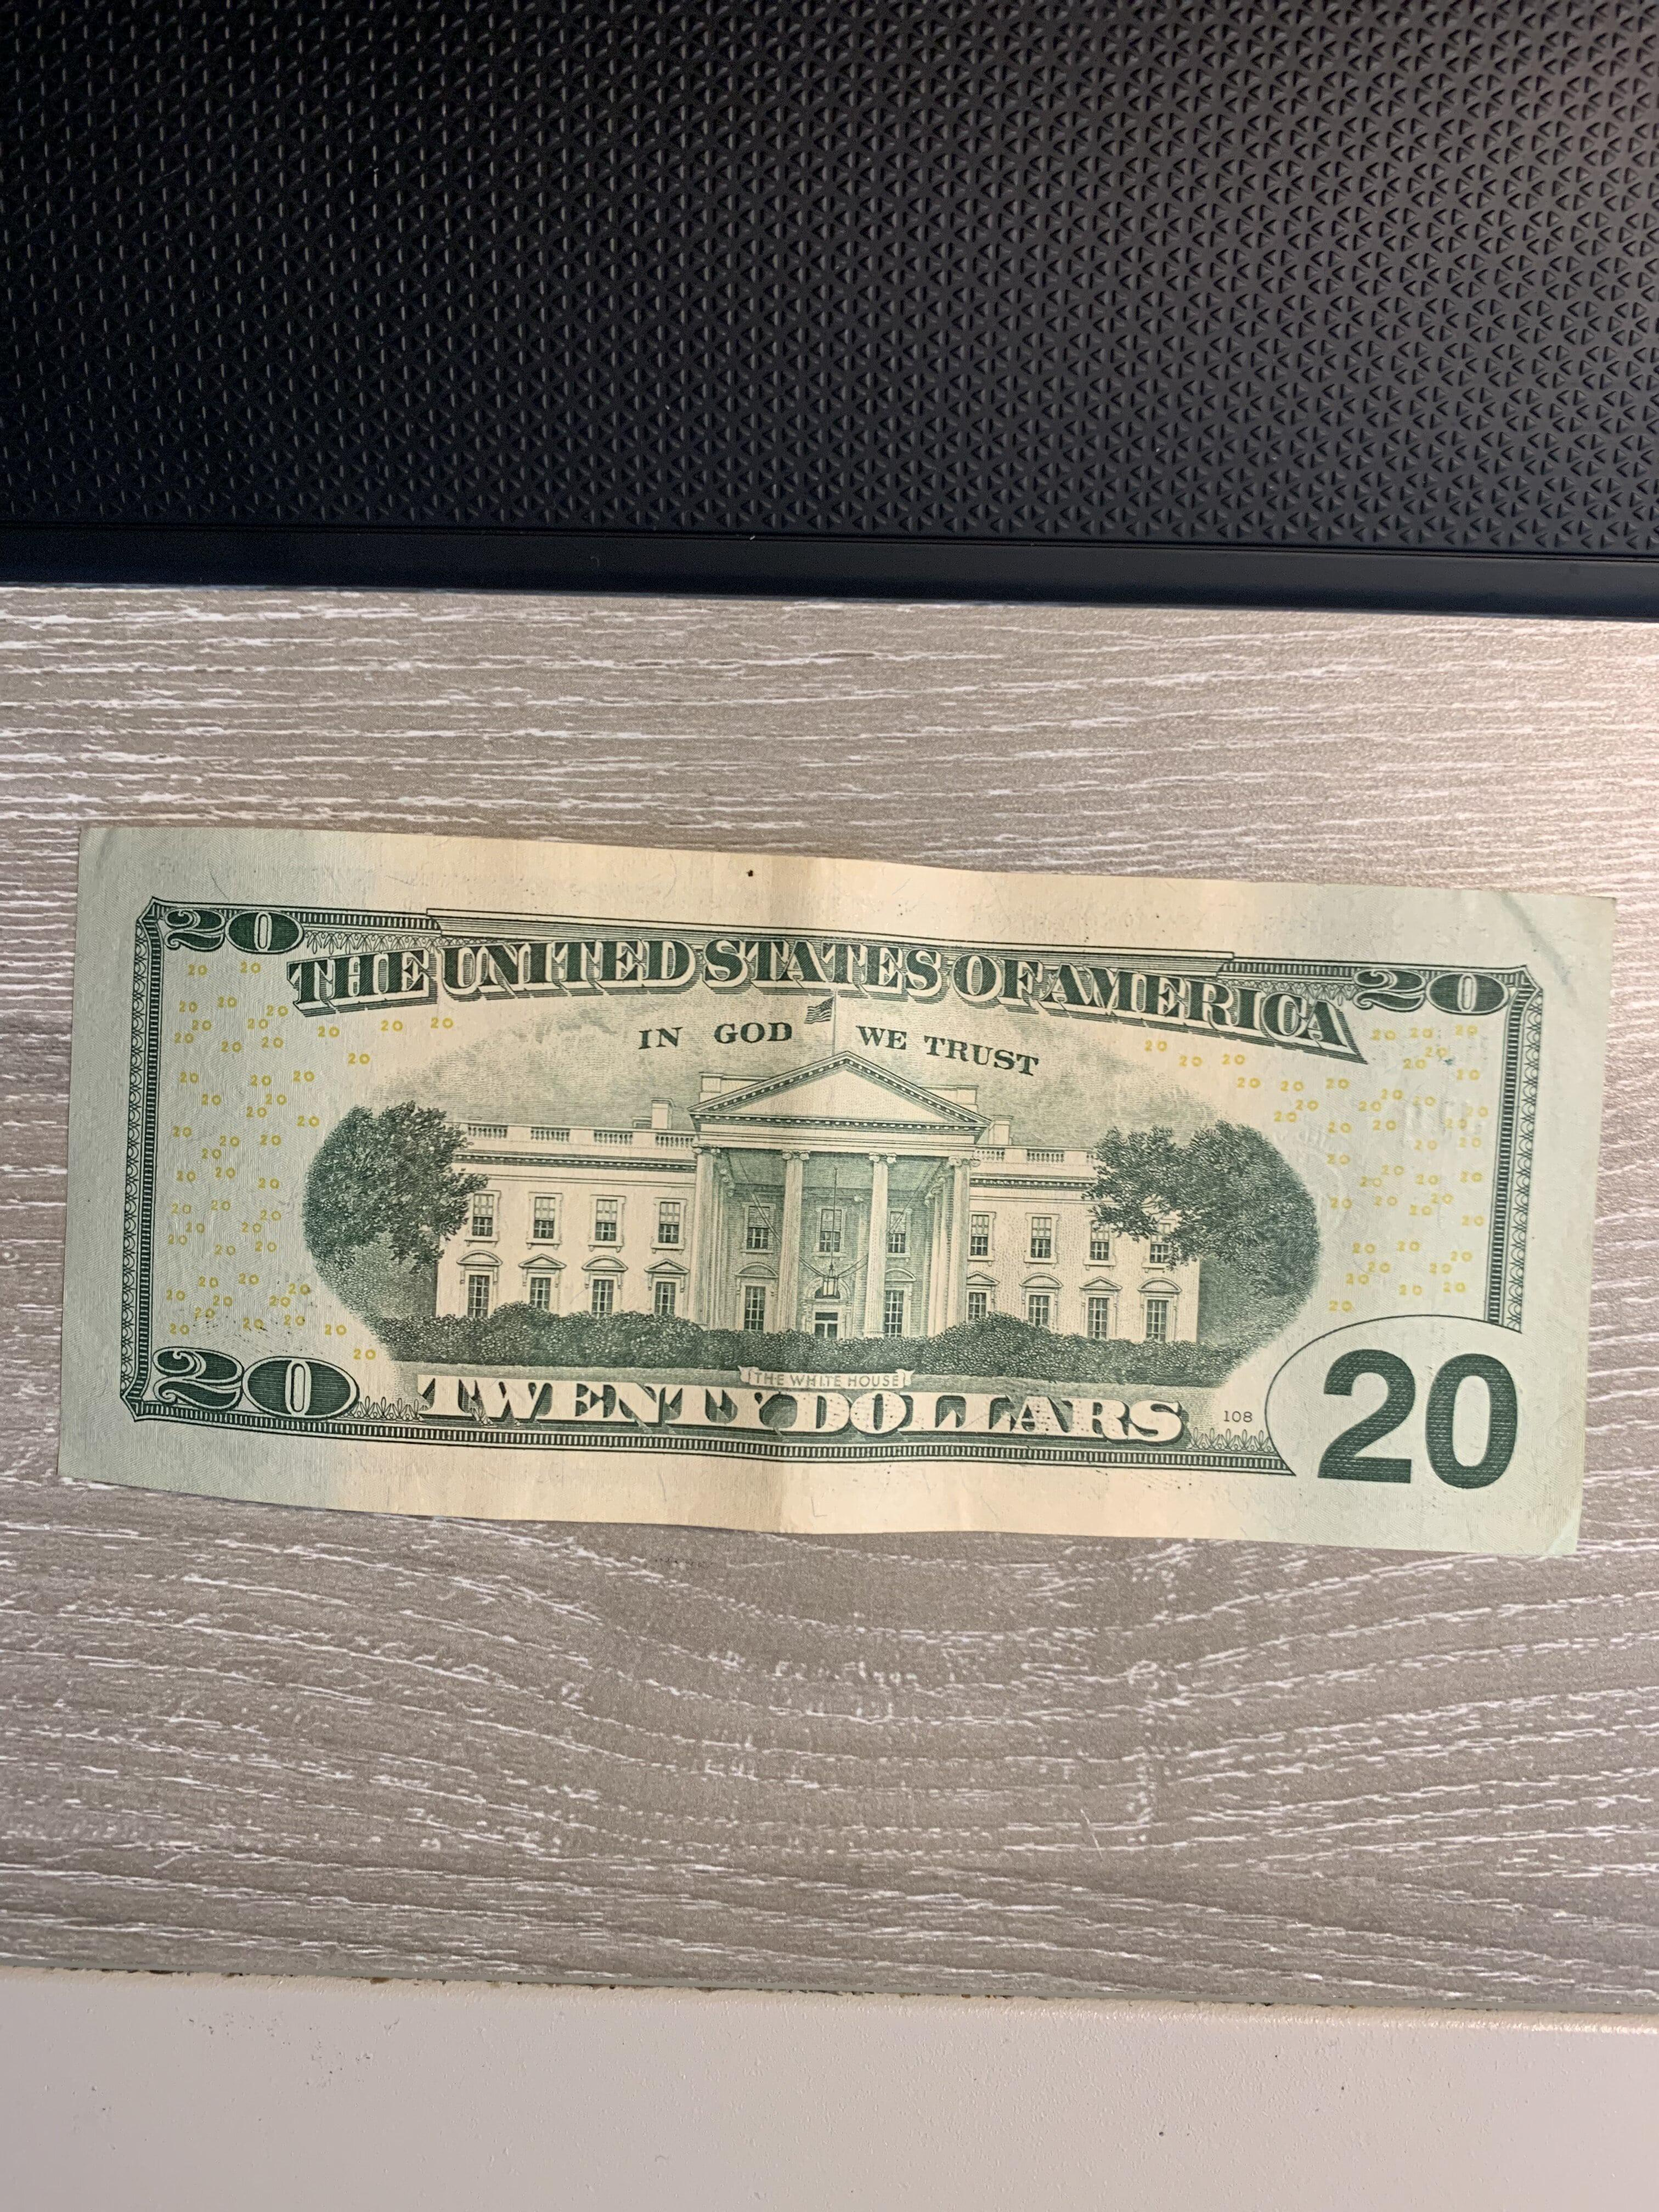TwentyBill: (14, 792, 1640, 1620)
